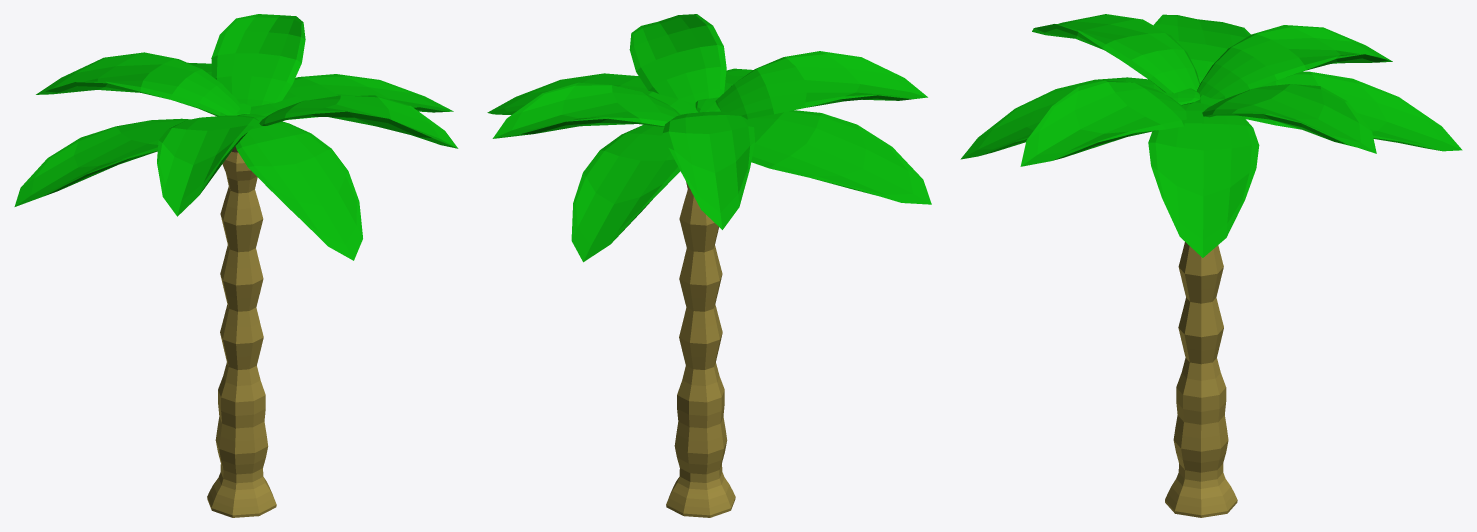
File: пальмочка2.fbx
The picture shows the model from 3 angles, left to right: view 1: azimuth 30°, elevation 25°; view 2: azimuth 150°, elevation 25°; view 3: azimuth 270°, elevation 25°; orthographic projection. The views are drawn at different scales.
Parts seen in each view (by area): view 1: Plane.003; view 2: Plane.003; view 3: Plane.003.
Boxes of the visible parts, x1,y1,x2,y2 form: Plane.003: [14, 14, 458, 517]; Plane.003: [487, 14, 931, 517]; Plane.003: [960, 14, 1462, 517].
Bounding box in the file's own units: 830 × 761 × 786.
